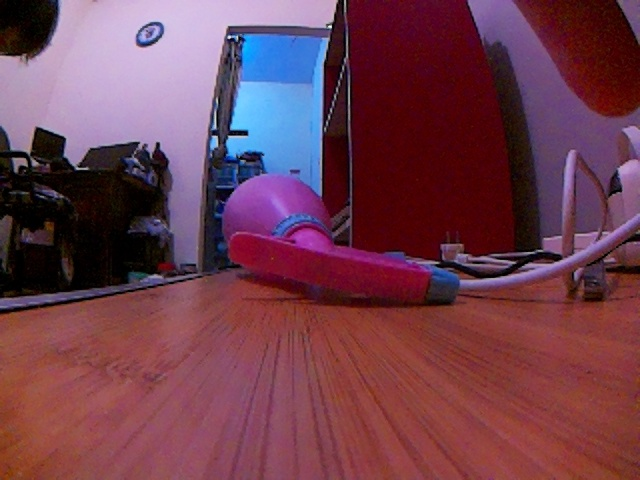korban: (221, 169, 468, 314)
